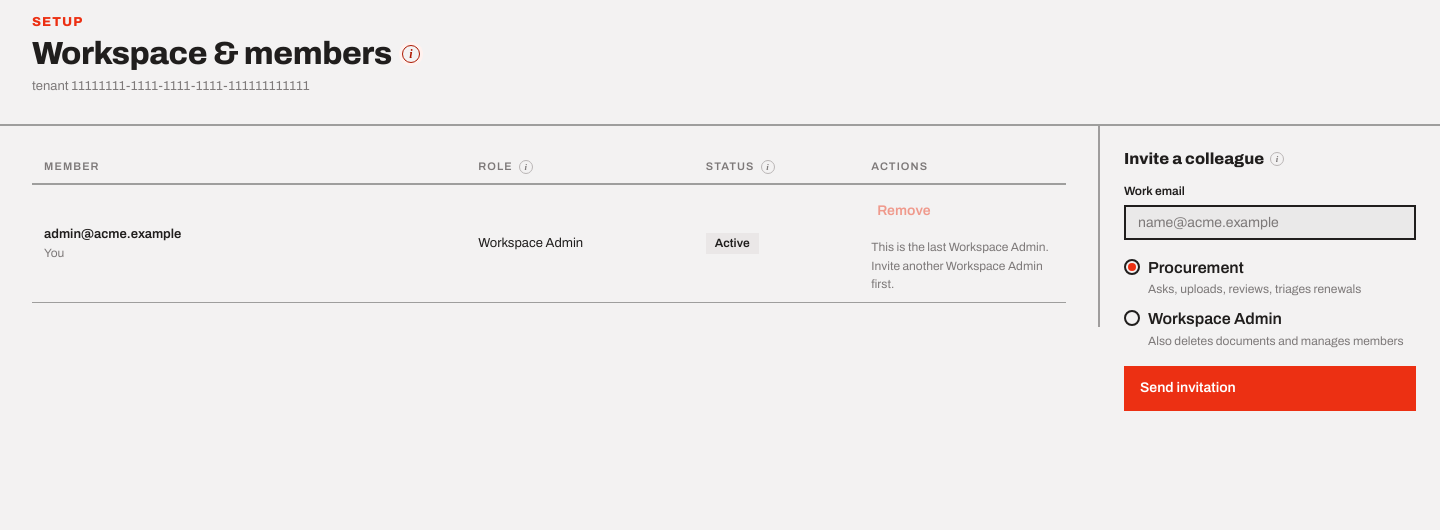
Scenario: MembersRoute (V2, ADR-020/ADR-025/ADR-026 w14 footers; screens-v2.md #10) › a successful invite re-reads the roster instead of appending a row locally, and renders 'Invitation sent to {email}.' on deliveryOutcome 'sent' with the copyabl
Expected: the table is shown, [32, 150, 1066, 303]
Type "buyer@acme.example" into the field labelled "Work email" at (1270, 222), box [1124, 205, 1416, 240]
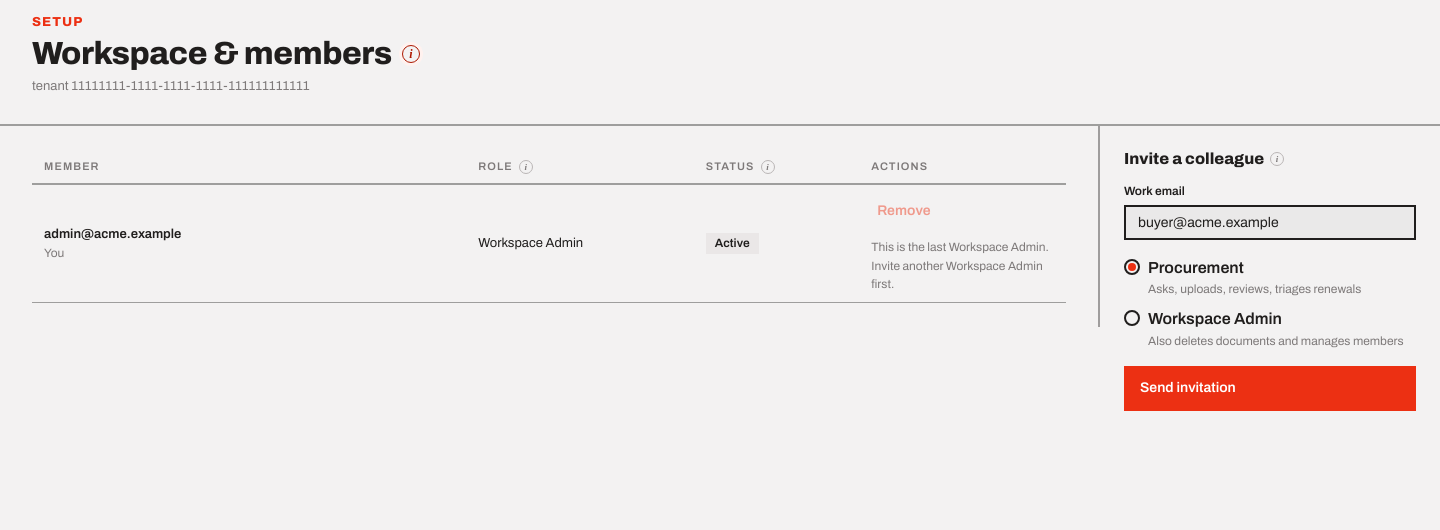
Click the button "Send invitation" at (1188, 388), box [1124, 366, 1416, 411]
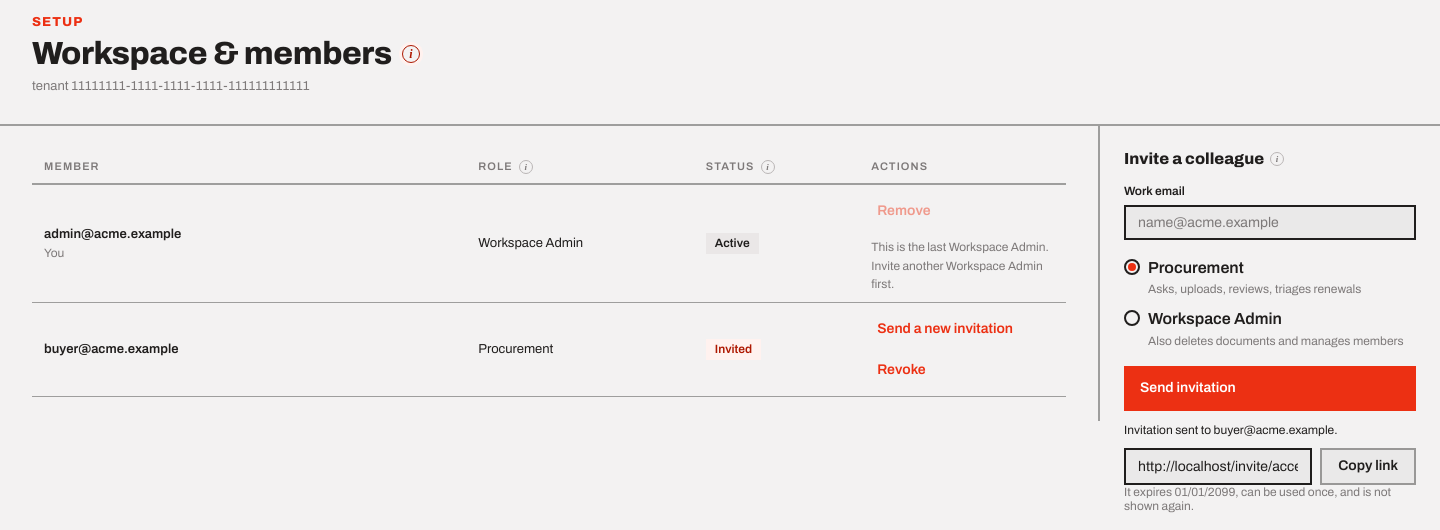
Result: the text "buyer@acme.example" is shown at [44, 342, 178, 356]
Result: the text "Invitation sent to buyer@acme.example." is shown at [1124, 423, 1338, 437]
Result: the field labelled "Work email" is empty at [1124, 205, 1416, 240]
